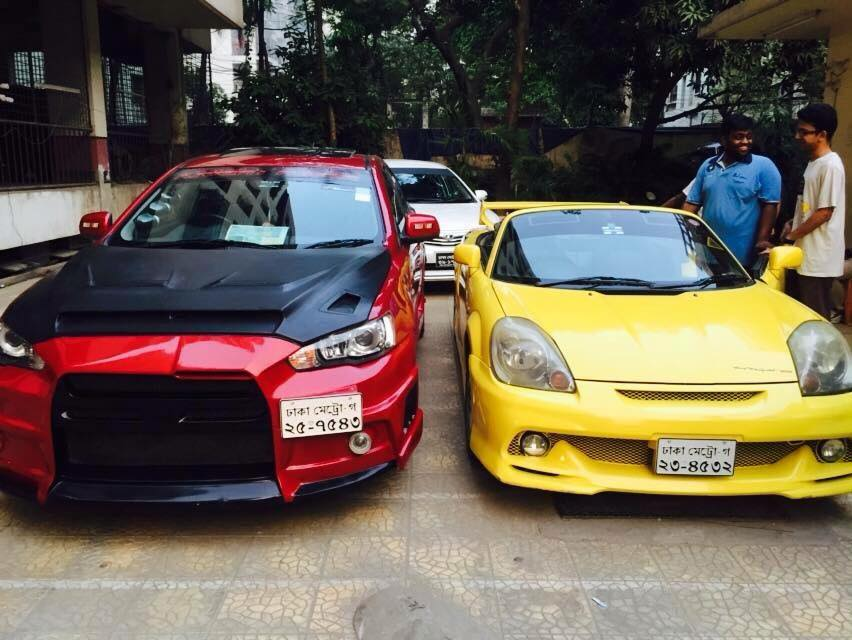registration_plate: (279, 392, 362, 439), (655, 437, 737, 476)
